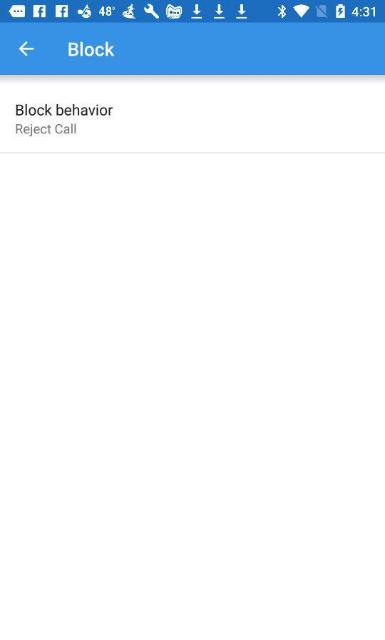Icon: (18, 41, 34, 57)
Text: (17, 104, 114, 116), (16, 123, 76, 137), (68, 41, 114, 57)
Toolbar: (0, 24, 384, 74)
UpperTaskBar: (0, 0, 384, 22)
